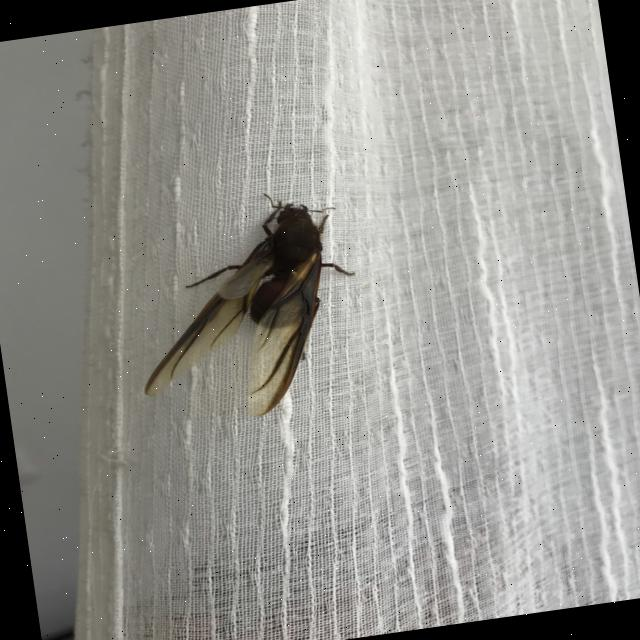Alive-Female-Alate: (119, 182, 372, 432)
